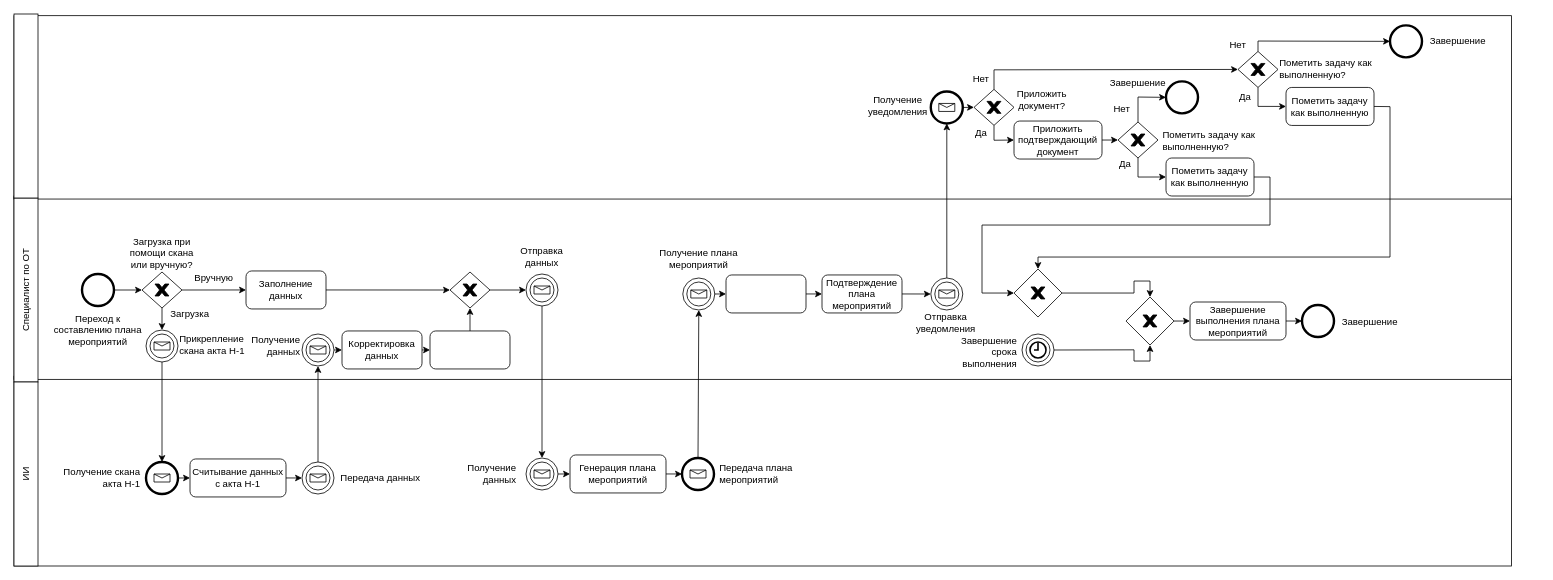
Image size: 1553x580. Some labels were removed from this diagram. Here are the shapes that lost their labels. From the top down, the centre of each, then its label:
pixel 25 105: Руководитель
pixel 765 293: Корректировка плана мероприятий
pixel 469 349: Подтверждение данных
